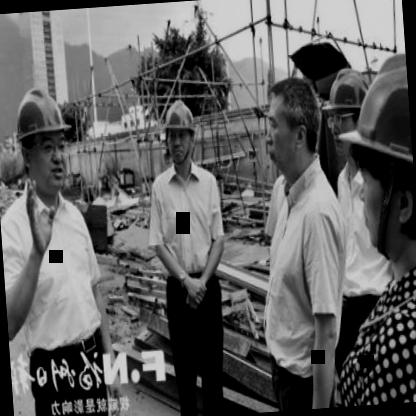head: (264, 74, 324, 184)
helmet: (342, 47, 416, 259), (11, 84, 73, 197), (326, 65, 368, 148), (160, 94, 202, 170)
